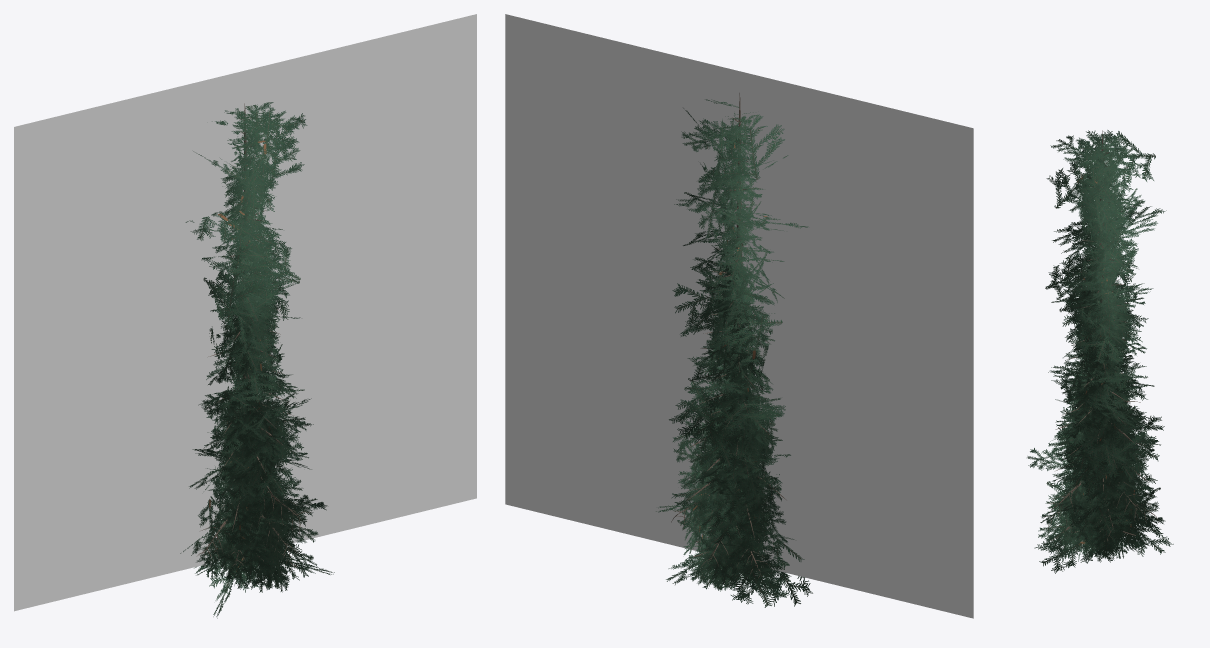
Rendered from epicea_adulte_d.fbx.
3 views of the same model, side by side, from view 1: azimuth 30°, elevation 25°; view 2: azimuth 150°, elevation 25°; view 3: azimuth 270°, elevation 25° (orthographic). The views are drawn at different scales.
Parts seen in each view (by area): view 1: epicea_adulte_d_LOD3, epicea_adulte_d_LOD2, epicea_adulte_d_LOD1; view 2: epicea_adulte_d_LOD3, epicea_adulte_d_LOD2, epicea_adulte_d_LOD1; view 3: epicea_adulte_d_LOD2, epicea_adulte_d_LOD1.
Part boxes in pixels (x1,y1,x2,y2): epicea_adulte_d_LOD3: (14,14,476,611); epicea_adulte_d_LOD2: (180,103,334,618); epicea_adulte_d_LOD1: (194,102,318,592); epicea_adulte_d_LOD3: (505,14,973,618); epicea_adulte_d_LOD2: (656,97,812,607); epicea_adulte_d_LOD1: (671,93,794,591); epicea_adulte_d_LOD2: (1034,130,1173,573); epicea_adulte_d_LOD1: (1027,131,1162,563).
Size of what is drawn, in the model's own units: 27.99 by 30.98 by 11.58.
